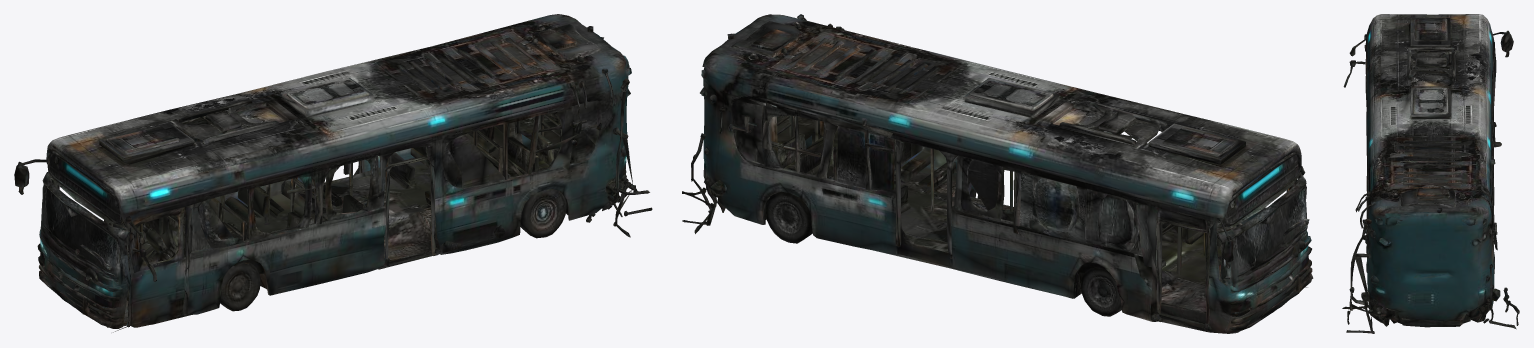
Rendered from destroyed-transit-bus.glb.
The picture shows the model from 3 angles, left to right: view 1: azimuth 30°, elevation 25°; view 2: azimuth 150°, elevation 25°; view 3: azimuth 270°, elevation 25°; orthographic projection. The views are drawn at different scales.
Visible parts, largest first — view 1: Mesh_0; view 2: Mesh_0; view 3: Mesh_0.
Boxes of the visible parts, <box> form: Mesh_0: <box>14,14,652,332</box>; Mesh_0: <box>682,14,1313,333</box>; Mesh_0: <box>1342,14,1519,333</box>.
Bounding box in the file's own units: 10.01 × 3 × 3.56.
1 material, 1 textured.
